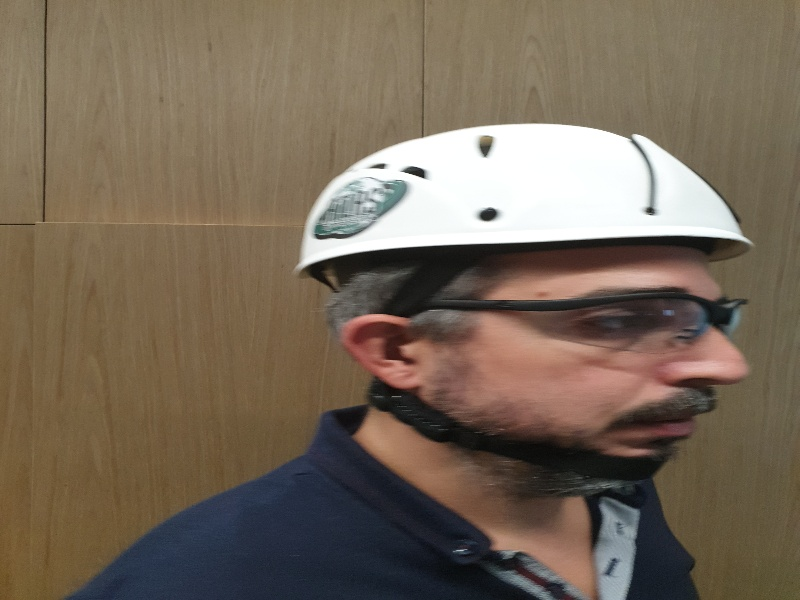Baret: (295, 122, 751, 258)
Gozluk: (422, 294, 748, 357)
